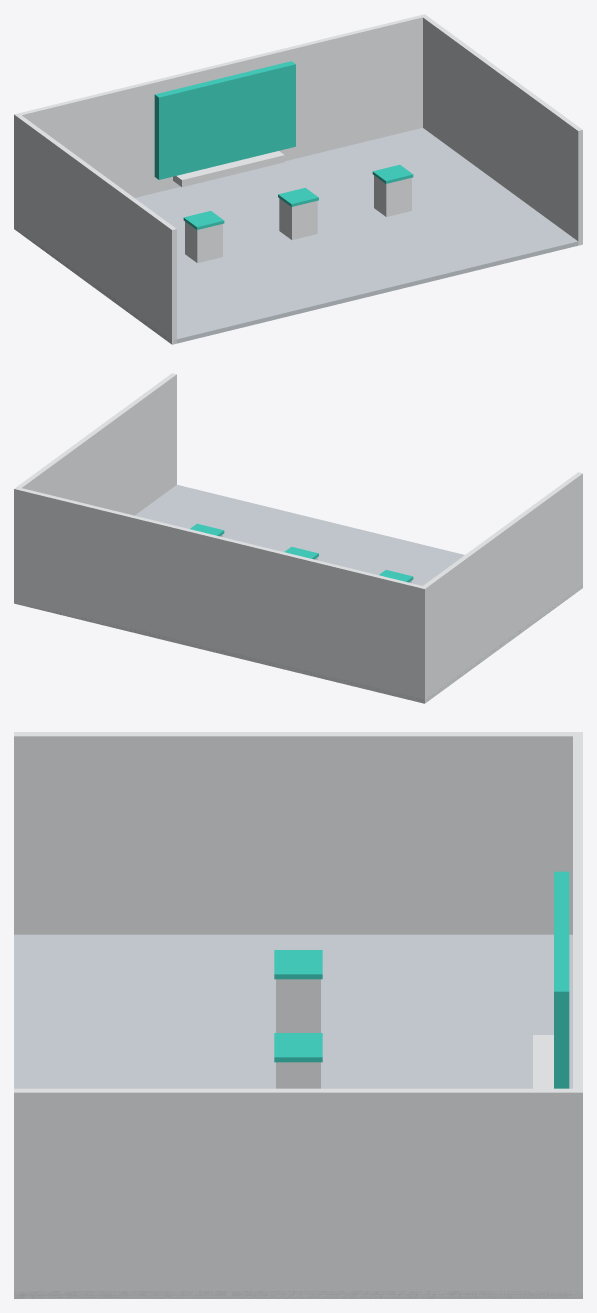
3 renders of one model, top to bottom at view 1: azimuth 30°, elevation 25°; view 2: azimuth 150°, elevation 25°; view 3: azimuth 270°, elevation 25°, orthographic. The views are drawn at different scales.
Visible parts, largest first — view 1: Exhibition Booth Concept; view 2: Exhibition Booth Concept; view 3: Exhibition Booth Concept.
Part boxes in pixels (x1=…): Exhibition Booth Concept: x1=14, y1=14, x2=582, y2=344; Exhibition Booth Concept: x1=14, y1=373, x2=582, y2=703; Exhibition Booth Concept: x1=14, y1=732, x2=582, y2=1298.
Size of the model in its own units: 12 by 3.2 by 8.
